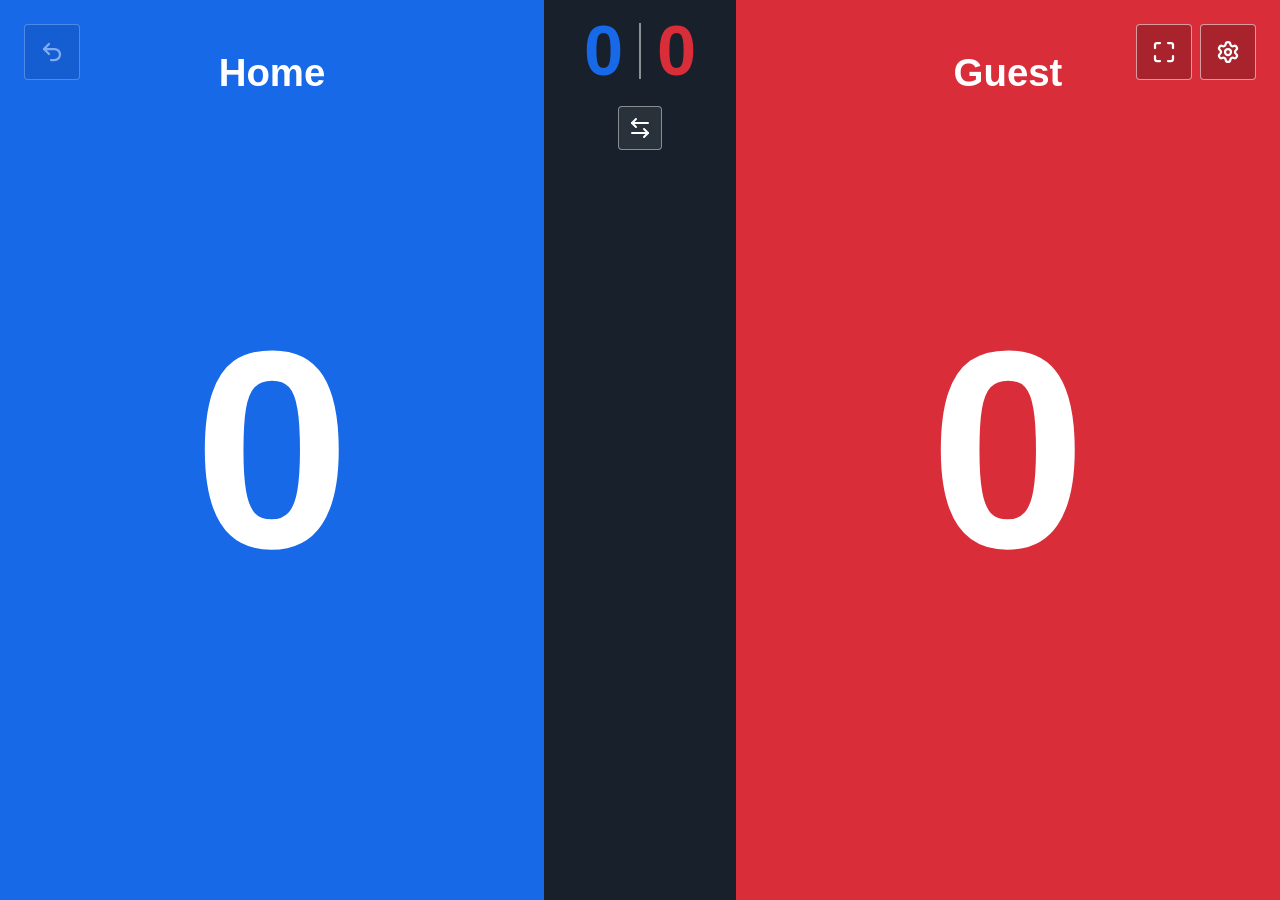
it: locale selection › renders the app in English when selected
Check: the button with aria-label "Home score: 0" shows "Home", box [0,0,544,899]
Check: the text "Guest" is shown, box [954,54,1062,92]
Click the button named "Settings": x=1228, y=52 [1200,24,1256,80]
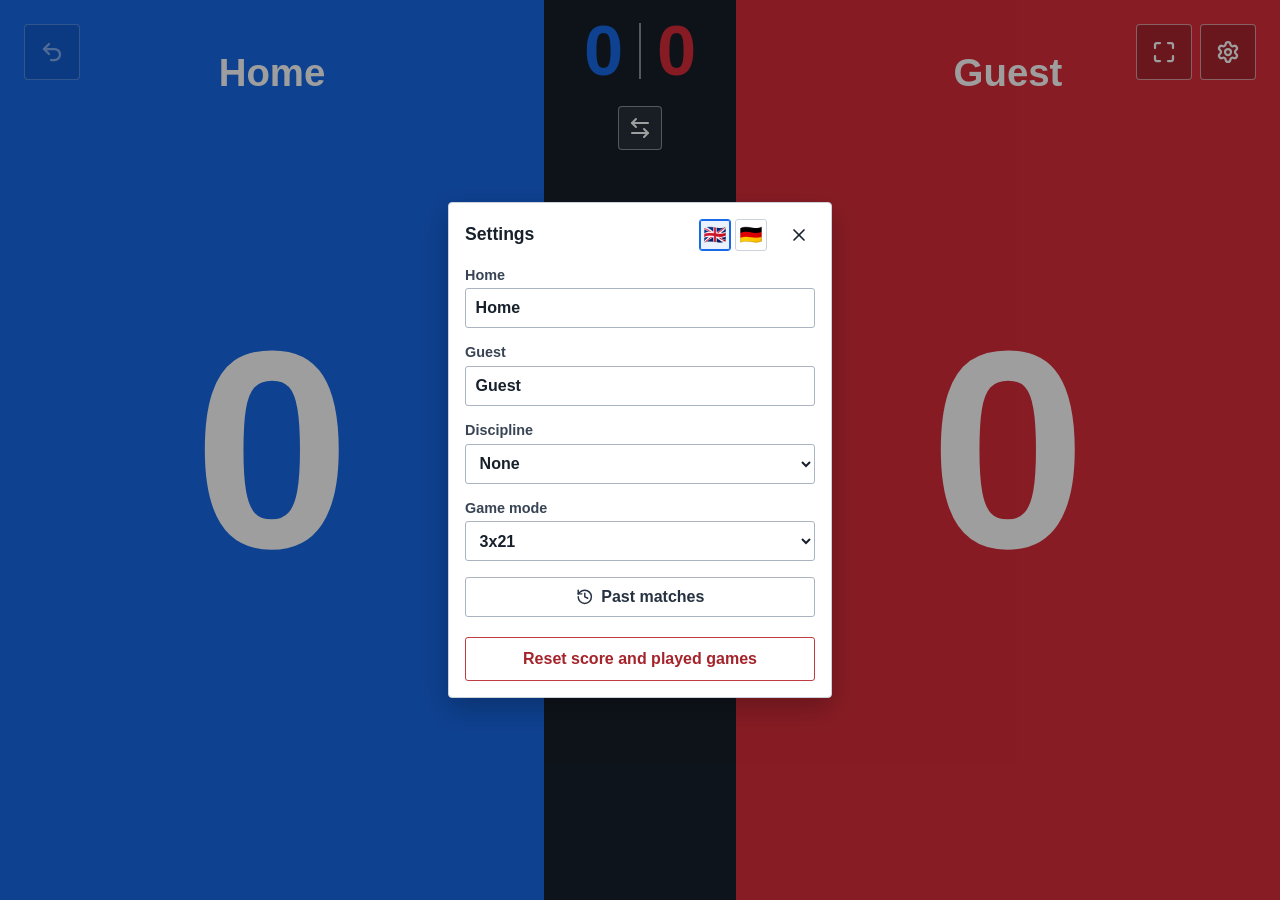
Check: the dialog "Settings" is shown, box [448,202,832,698]
Click the button "Past matches": x=640, y=597 [465,577,815,617]
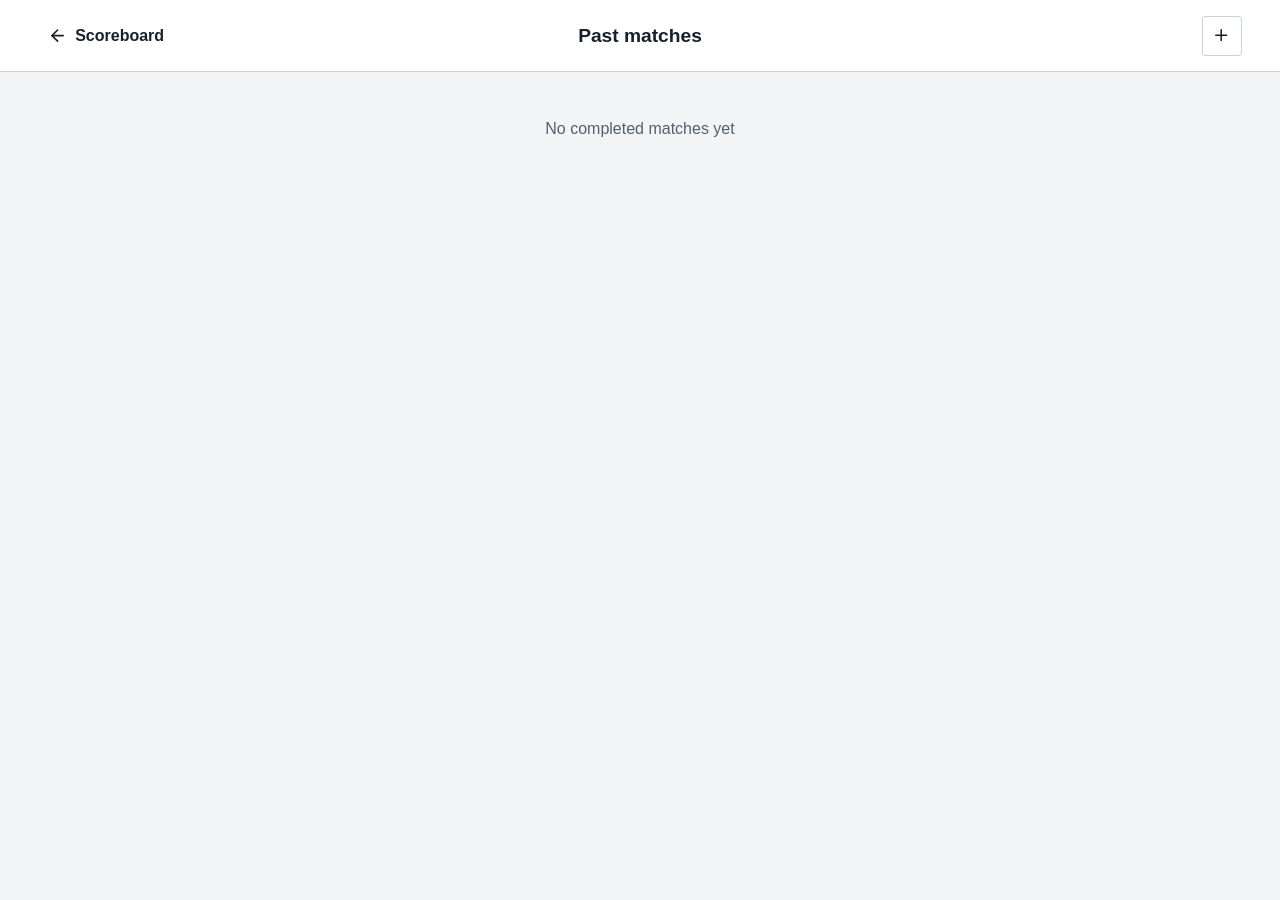
Check: the heading "Past matches" is shown, box [578,24,702,46]
Check: the text "No completed matches yet" is shown, box [545,120,735,137]
Check: the button with aria-label "Back to scoreboard" reads "Scoreboard", box [38,16,174,56]
